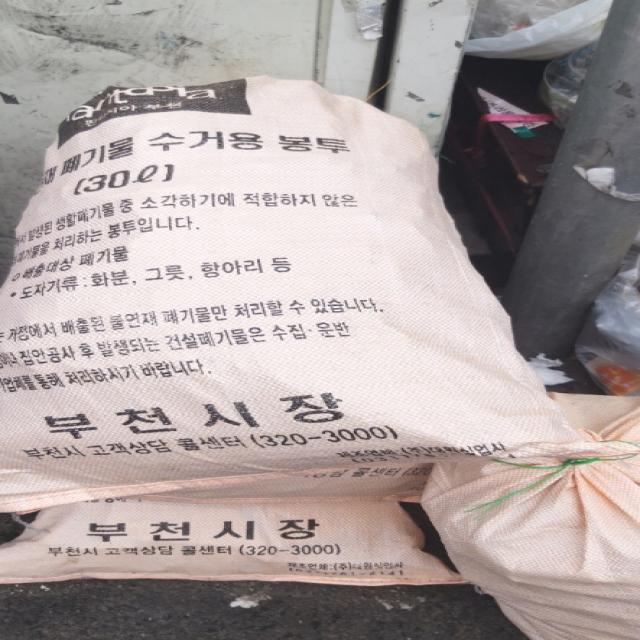PP bag: (0, 72, 594, 512), (0, 458, 491, 610), (393, 370, 640, 639)
